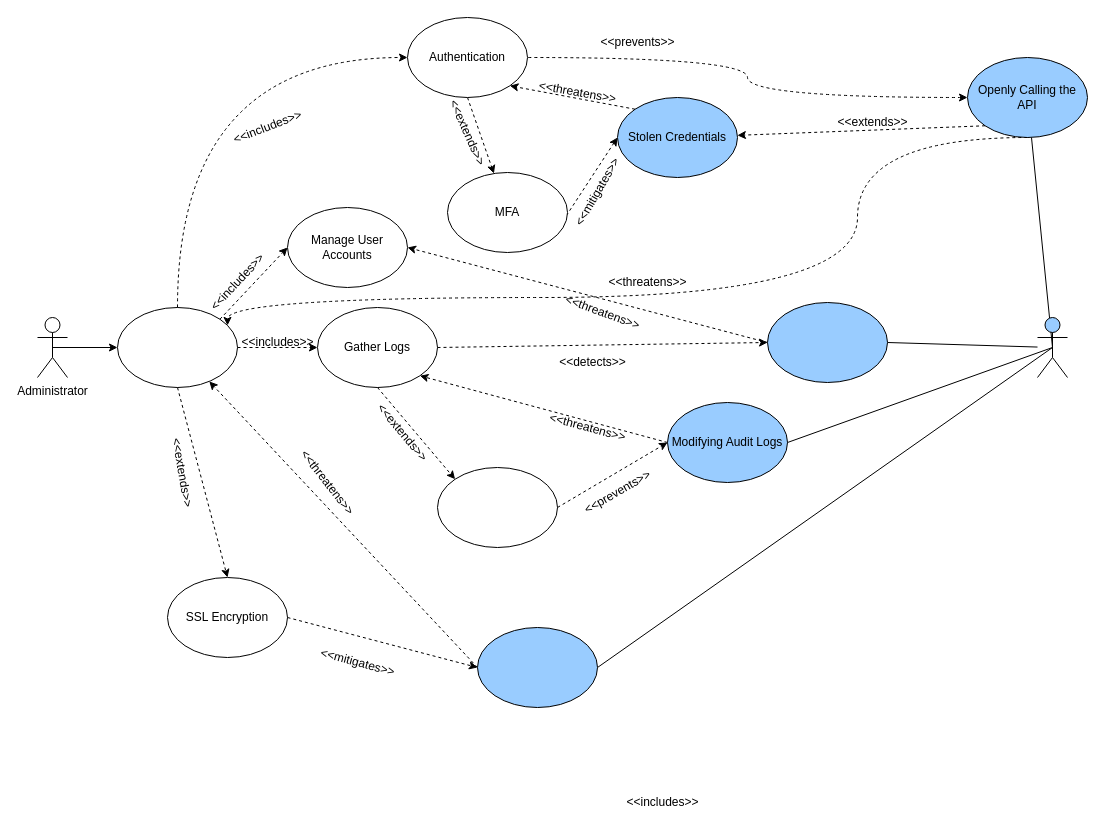
The diagram is 1110 pixels wide and 835 high, and some of its shapes have lost their labels. Here are the shapes that lost their labels. From the top down, the box of each, then its label:
(116, 306, 238, 388): API Call
(766, 302, 888, 382): Creating Unauthorized Users
(1036, 316, 1068, 378): Malicious Actor
(436, 466, 558, 548): Remote Log Aggregation
(476, 626, 598, 708): Man In The Middle
